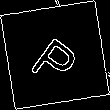P_NE: (25, 24, 85, 86)
